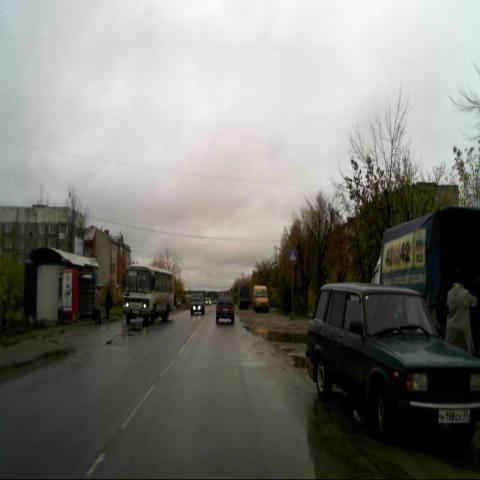5_19_1: (288, 248, 296, 263)
